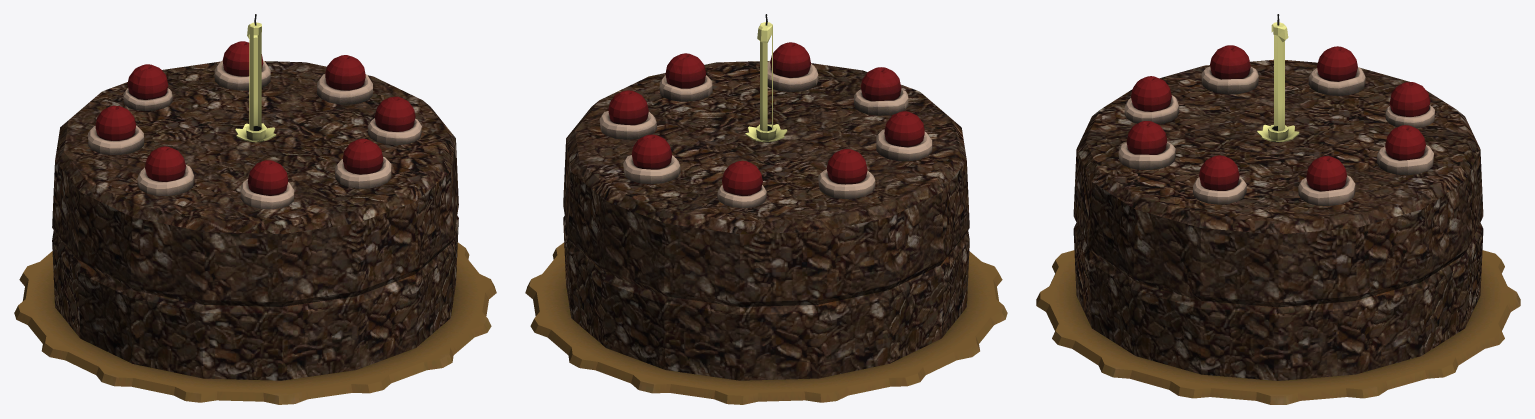
The model's file is cake.dae.
The picture shows the model from 3 angles, left to right: view 1: azimuth 30°, elevation 25°; view 2: azimuth 150°, elevation 25°; view 3: azimuth 270°, elevation 25°; orthographic projection.
Parts seen in each view (by area): view 1: skp7DAF (×11); view 2: skp7DAF (×11); view 3: skp7DAF (×11).
Part boxes in pixels (x1,y1,x2,y2): skp7DAF (×11): (14, 14, 496, 404); skp7DAF (×11): (525, 14, 1007, 404); skp7DAF (×11): (1036, 14, 1520, 404).
Size of the model in its own units: 29.03 by 29.03 by 19.09.
Materials: 1 (1 with a texture image).
